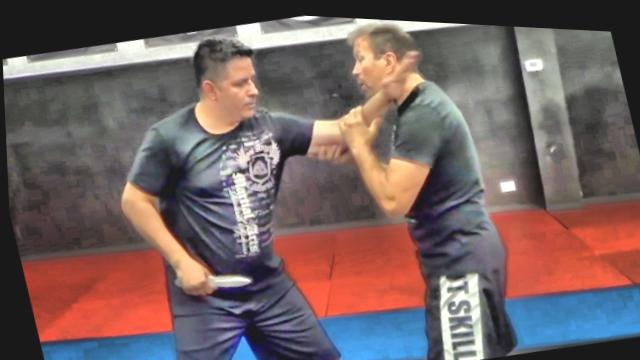knife: (168, 258, 253, 299)
